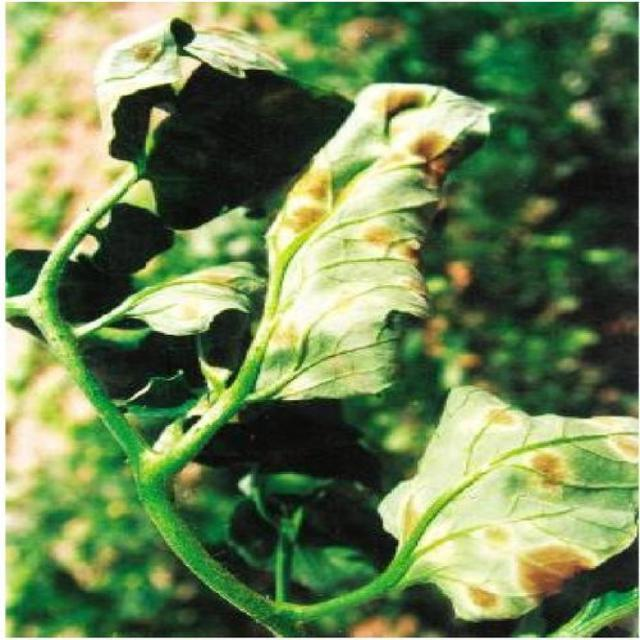Leaf_Mold: (364, 223, 433, 304), (518, 542, 600, 609), (283, 162, 355, 238), (399, 127, 466, 194), (527, 446, 576, 495), (362, 85, 425, 121), (598, 417, 640, 464), (459, 582, 503, 617), (125, 40, 166, 66), (485, 403, 517, 432)
